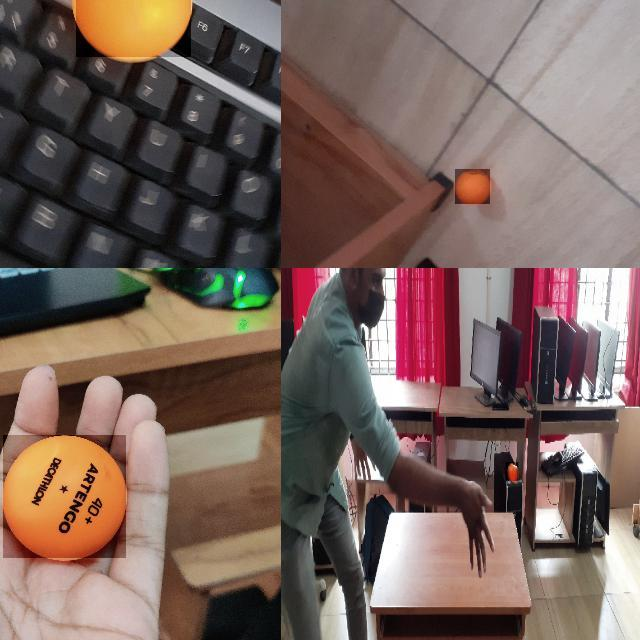ping-pong-ball: (3, 434, 127, 560), (76, 0, 193, 59), (455, 169, 491, 205), (506, 462, 518, 482)
